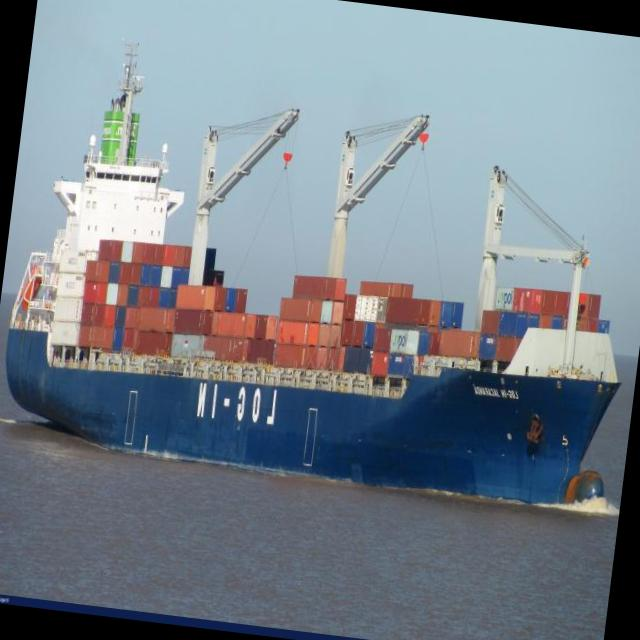Cargo: (6, 51, 619, 504)
